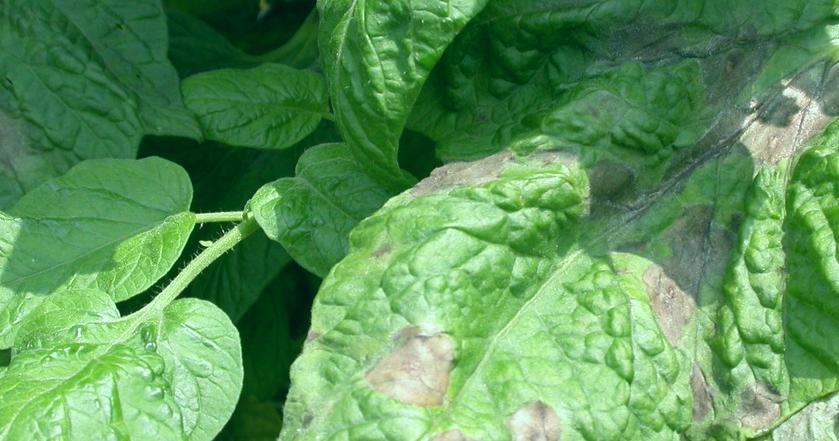Tomato leaf late blight: (258, 0, 839, 441), (0, 0, 184, 217)
